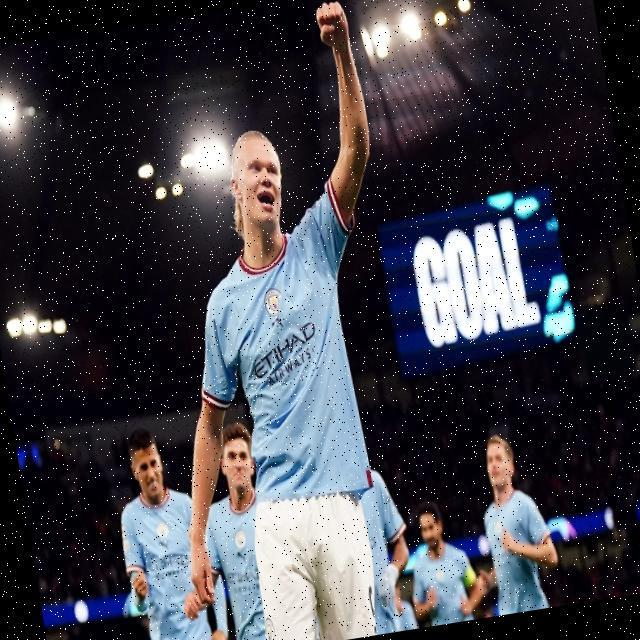Etihad Airways: (248, 321, 324, 389), (146, 551, 191, 581), (225, 565, 262, 597)
Puma: (268, 306, 287, 334), (158, 538, 174, 555), (234, 548, 249, 564)
